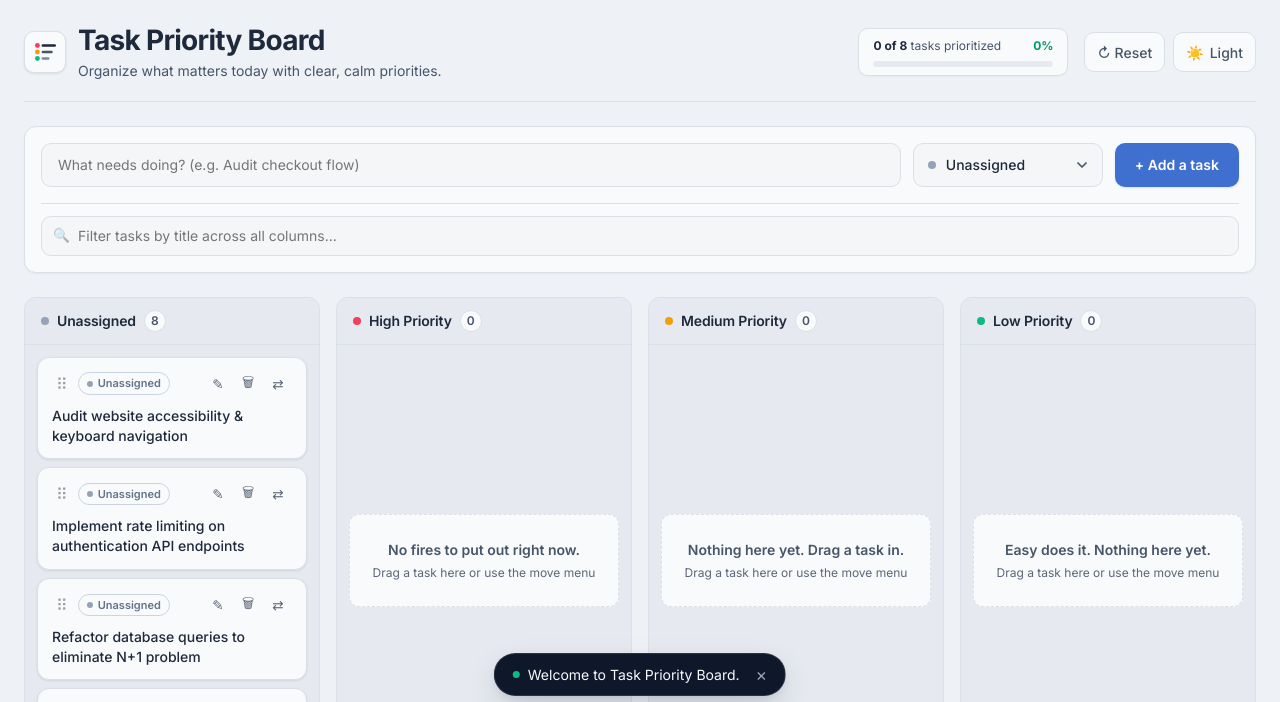
Test: Task Priority Board Integration Tests › filters tasks across all columns by search query
// Search for "Docker" (does not exist)
Type "Docker" into the search field with placeholder "Filter tasks by title across all columns..." at (640, 236), box [41,216,1239,256]
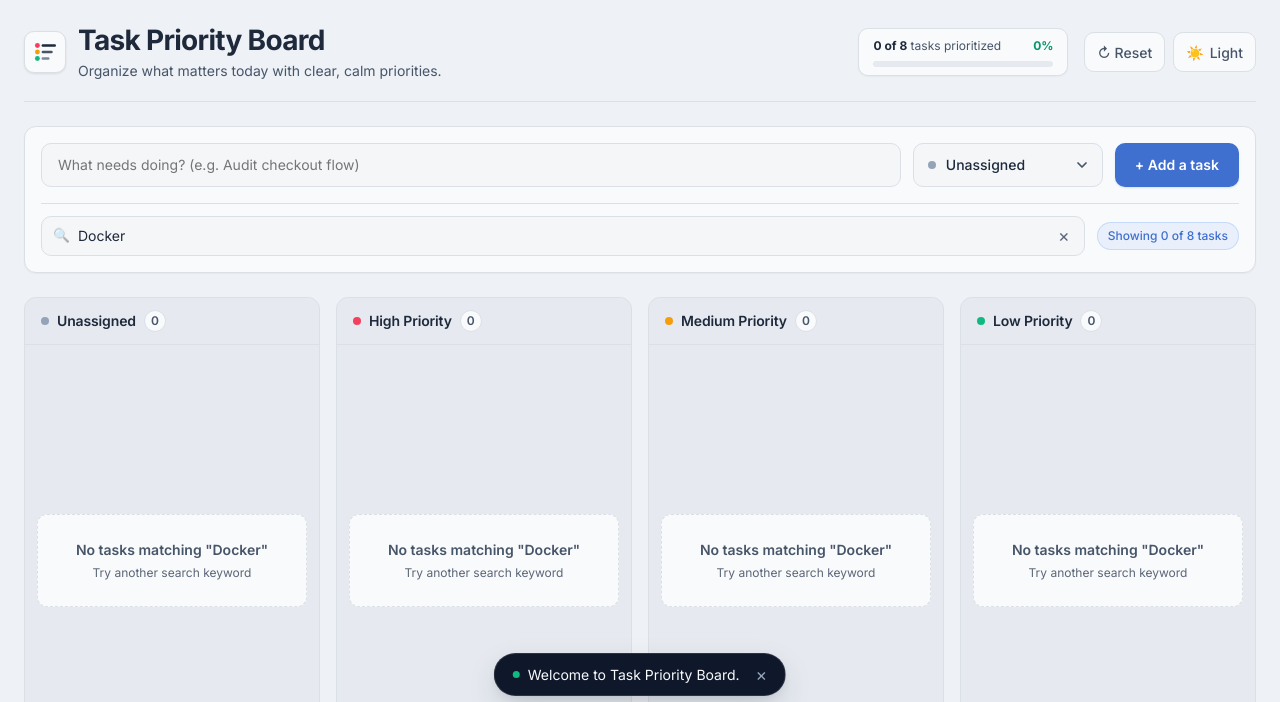
Check: the text "Showing 0 of 8 tasks" is shown, box [1097,222,1239,250]
Check: the text "No tasks matching \"Docker\"" is shown 4 times, box [76,541,268,558]; [388,541,580,558]; [700,541,892,558]; [1012,541,1204,558]
// Search for "accessibility"
Replace the text in the search field with placeholder "Filter tasks by title across all columns..." with "accessibility" at (563, 236), box [41,216,1085,256]
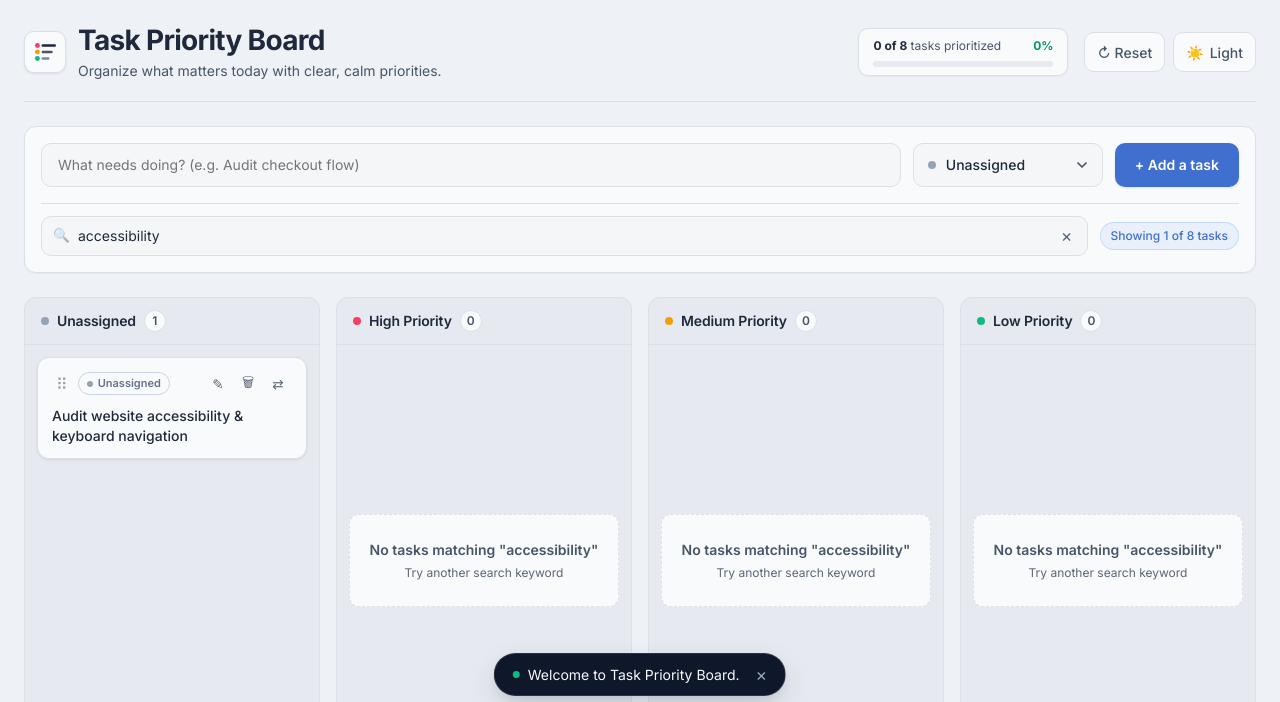
Check: the text "Showing 1 of 8 tasks" is shown, box [1100,222,1239,250]
Check: the heading "Audit website accessibility & keyboard navigation" is shown, box [52,407,243,444]
// Clear search
Click the button named "Clear filter search" at (1067, 236), box [1056,225,1078,247]
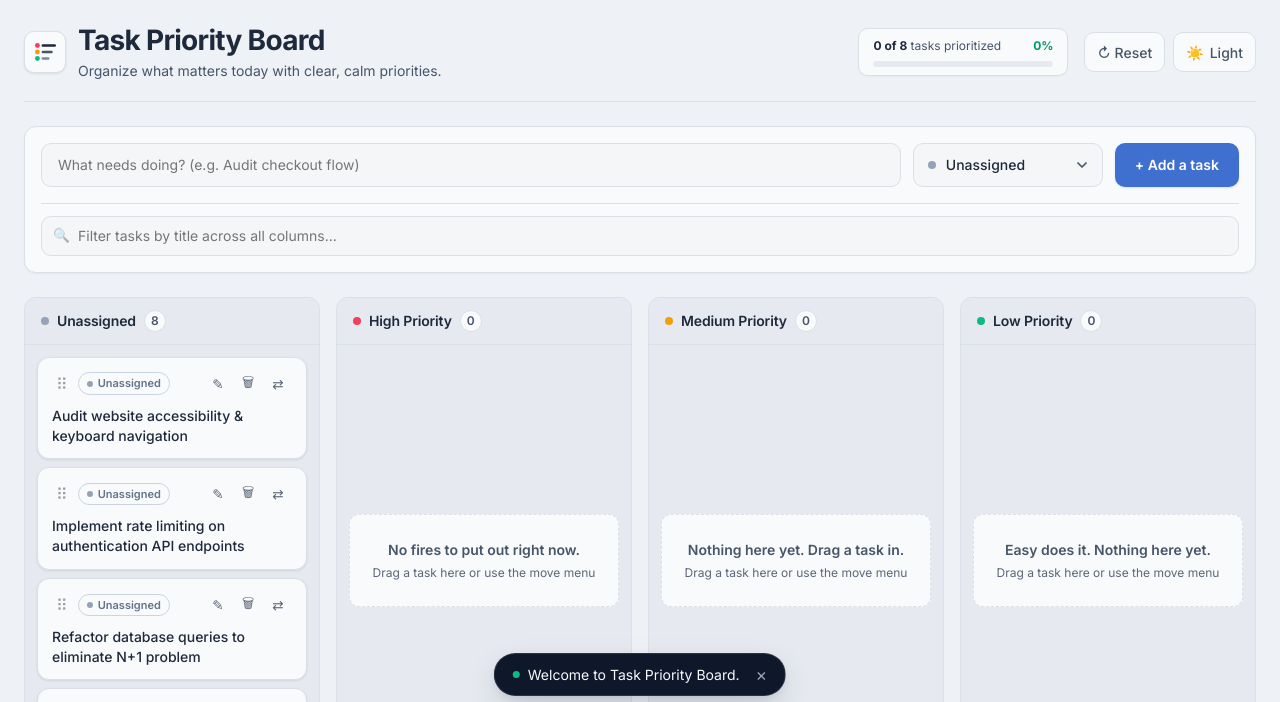
Check: the text "Showing" is gone
